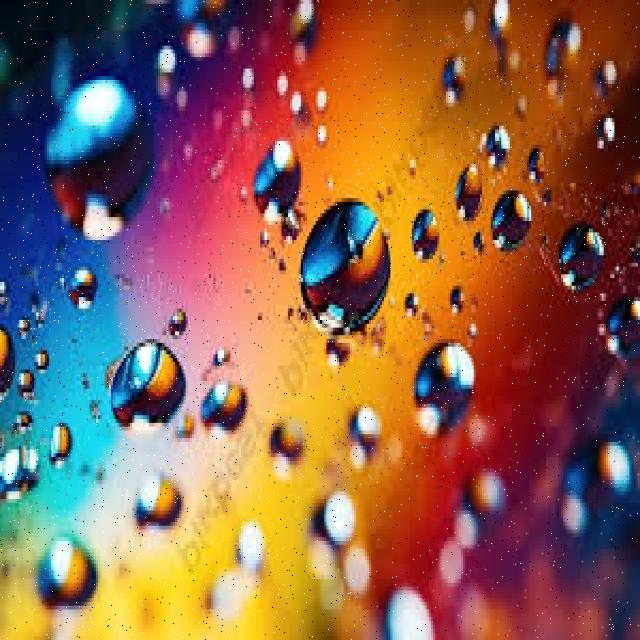raindrop: (28, 49, 160, 268), (292, 189, 398, 353), (408, 328, 486, 458), (109, 336, 192, 446), (28, 514, 109, 626), (191, 357, 261, 453), (130, 457, 197, 548), (552, 209, 610, 302), (488, 181, 542, 277)
